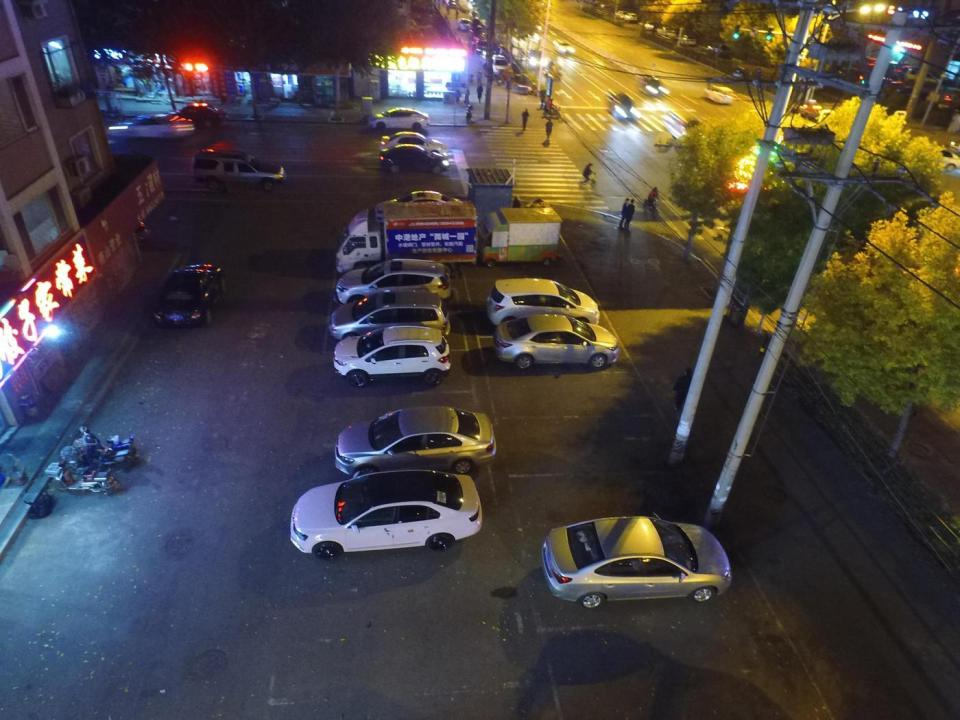car: (538, 514, 734, 604), (286, 476, 482, 556), (328, 404, 514, 485), (325, 322, 455, 386), (494, 317, 622, 382), (485, 277, 603, 327), (152, 257, 229, 328), (325, 295, 454, 337), (364, 187, 478, 233), (333, 262, 471, 296), (104, 112, 195, 147), (374, 142, 452, 175), (377, 125, 447, 158), (363, 105, 433, 134), (174, 98, 222, 130), (912, 137, 960, 169), (603, 90, 640, 127), (638, 72, 671, 99), (792, 97, 830, 118), (707, 80, 736, 106), (489, 54, 509, 80), (526, 46, 548, 69), (550, 38, 576, 57), (705, 42, 732, 60), (656, 24, 678, 38), (676, 34, 695, 47), (457, 17, 471, 32), (614, 7, 629, 20), (637, 20, 656, 29), (625, 10, 638, 22)
truck: (343, 199, 481, 269)
van: (191, 148, 287, 192), (664, 108, 708, 146)
